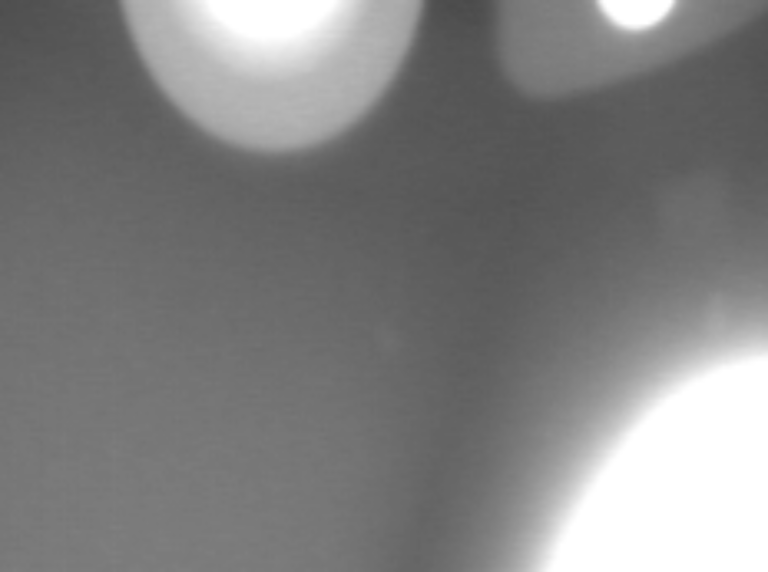defect: (381, 322, 414, 364)
